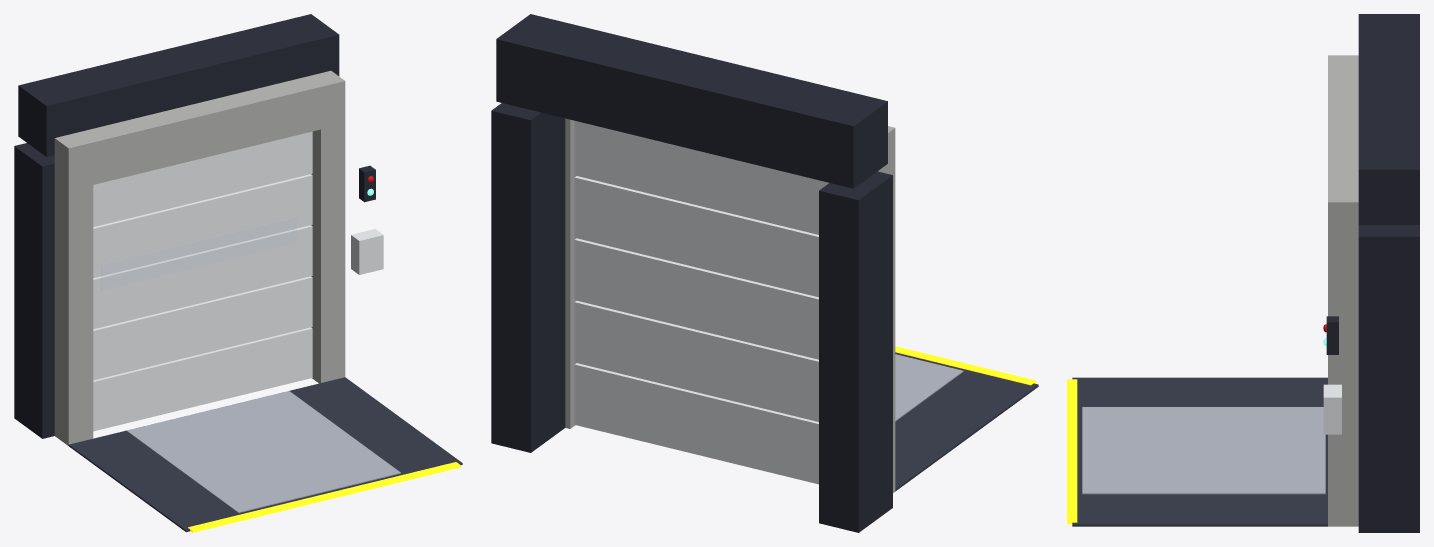
The model's file is lgx-002.glb.
3 renders of one model, left to right at view 1: azimuth 30°, elevation 25°; view 2: azimuth 150°, elevation 25°; view 3: azimuth 270°, elevation 25°, orthographic. The views are drawn at different scales.
Visible parts, largest first — view 1: white, laminate_grey, plastic_dark, steel, dark_steel, glass_clear, sign_yellow; view 2: plastic_dark, white, dark_steel, laminate_grey, steel, sign_yellow; view 3: plastic_dark, steel, dark_steel, laminate_grey, sign_yellow, white.
Boxes of the visible parts, x1,y1,x2,y2 form: white: (93, 131, 383, 431); laminate_grey: (54, 70, 345, 445); plastic_dark: (14, 14, 375, 438); steel: (126, 391, 400, 512); dark_steel: (68, 377, 462, 532); glass_clear: (102, 217, 296, 289); sign_yellow: (188, 462, 460, 532); plastic_dark: (491, 14, 892, 532); white: (574, 121, 828, 484); dark_steel: (895, 352, 1038, 491); laminate_grey: (565, 118, 895, 492); steel: (895, 354, 963, 421); sign_yellow: (895, 346, 1036, 385); plastic_dark: (1326, 14, 1419, 532); steel: (1082, 407, 1325, 494); dark_steel: (1072, 377, 1327, 526); laminate_grey: (1328, 55, 1358, 526); sign_yellow: (1067, 379, 1077, 524); white: (1323, 384, 1341, 434).
Bounding box in the file's own units: 4 × 3.9 × 3.45.
